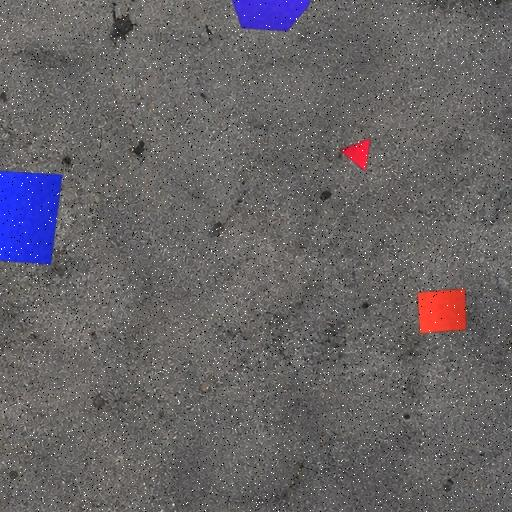BLUE_SQUARE: (0, 170, 63, 264)
RED_SQUARE: (417, 288, 467, 334)
